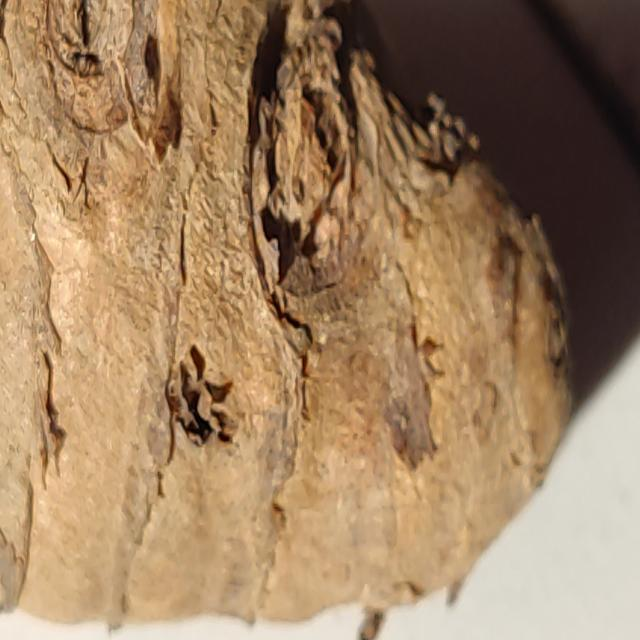ginger: (5, 0, 572, 589)
